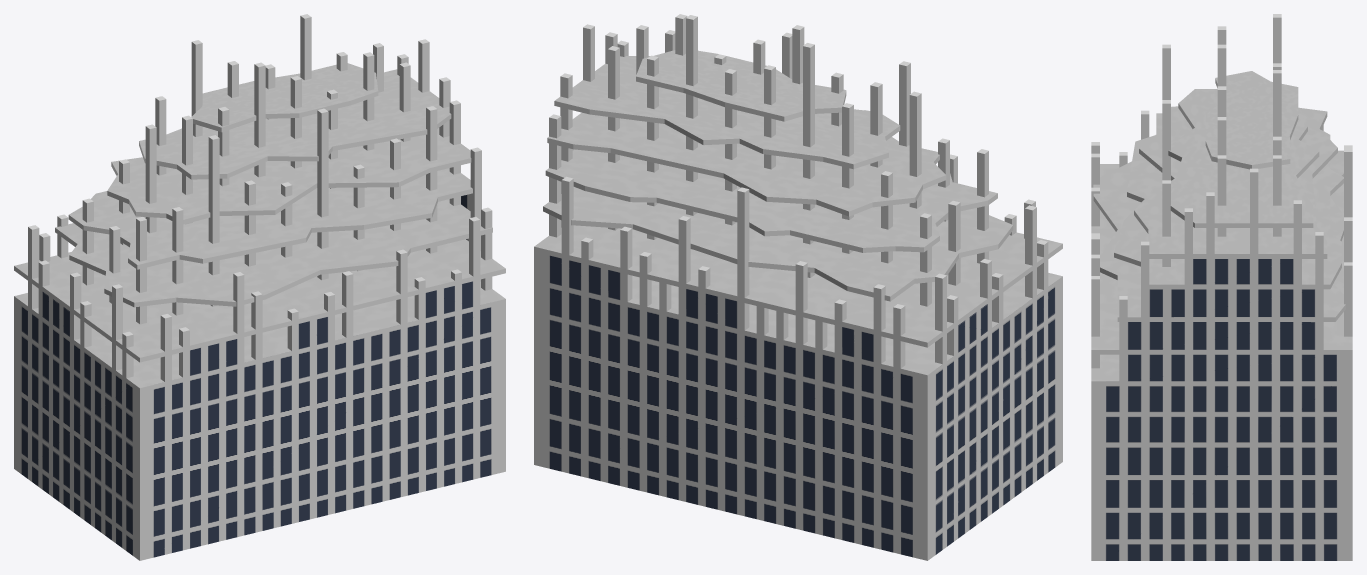
The model's file is Building_DT_M_W3_001.fbx.
3 renders of one model, left to right at view 1: azimuth 30°, elevation 25°; view 2: azimuth 150°, elevation 25°; view 3: azimuth 270°, elevation 25°, orthographic. The views are drawn at different scales.
Parts seen in each view (by area): view 1: Building_DT_M_W3_001; view 2: Building_DT_M_W3_001; view 3: Building_DT_M_W3_001.
Boxes of the visible parts, <box> form: Building_DT_M_W3_001: <box>14,14,505,560</box>; Building_DT_M_W3_001: <box>534,14,1062,560</box>; Building_DT_M_W3_001: <box>1091,14,1352,560</box>.
Bounding box in the file's own units: 55.54 × 60.5 × 33.06.
